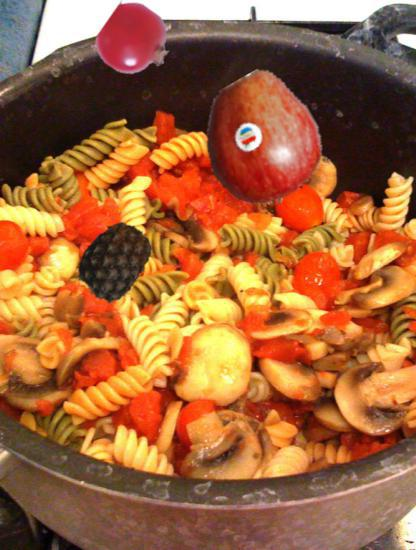Apple: (197, 77, 325, 205)
Pineapple: (71, 219, 157, 305)
Redcurrant: (99, 5, 172, 78)
